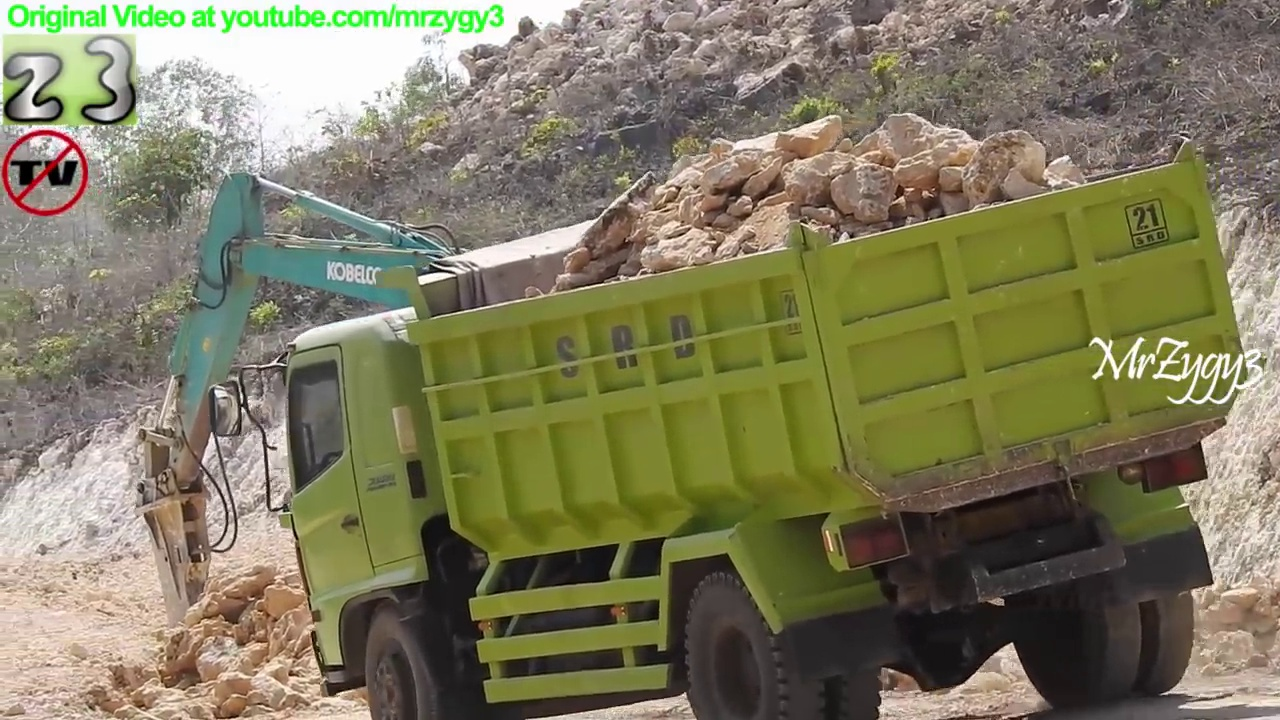excavator: (127, 164, 903, 674)
truck: (199, 126, 1255, 720)
